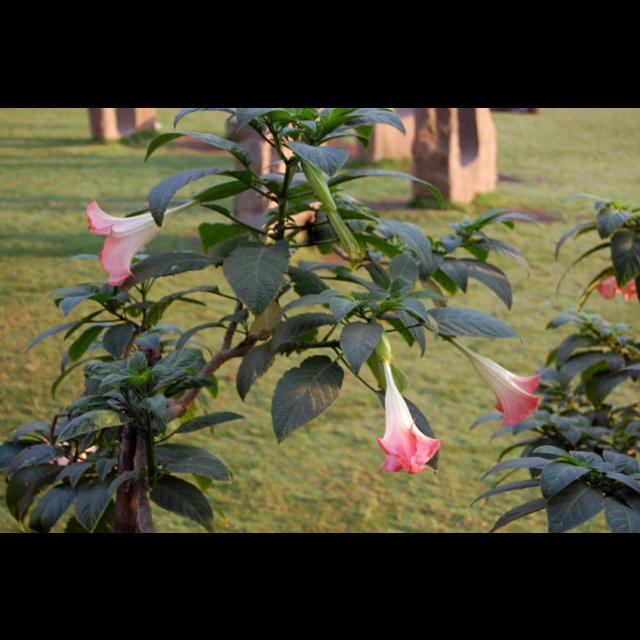Flower: (88, 198, 198, 286), (450, 339, 542, 429), (374, 386, 448, 478)
